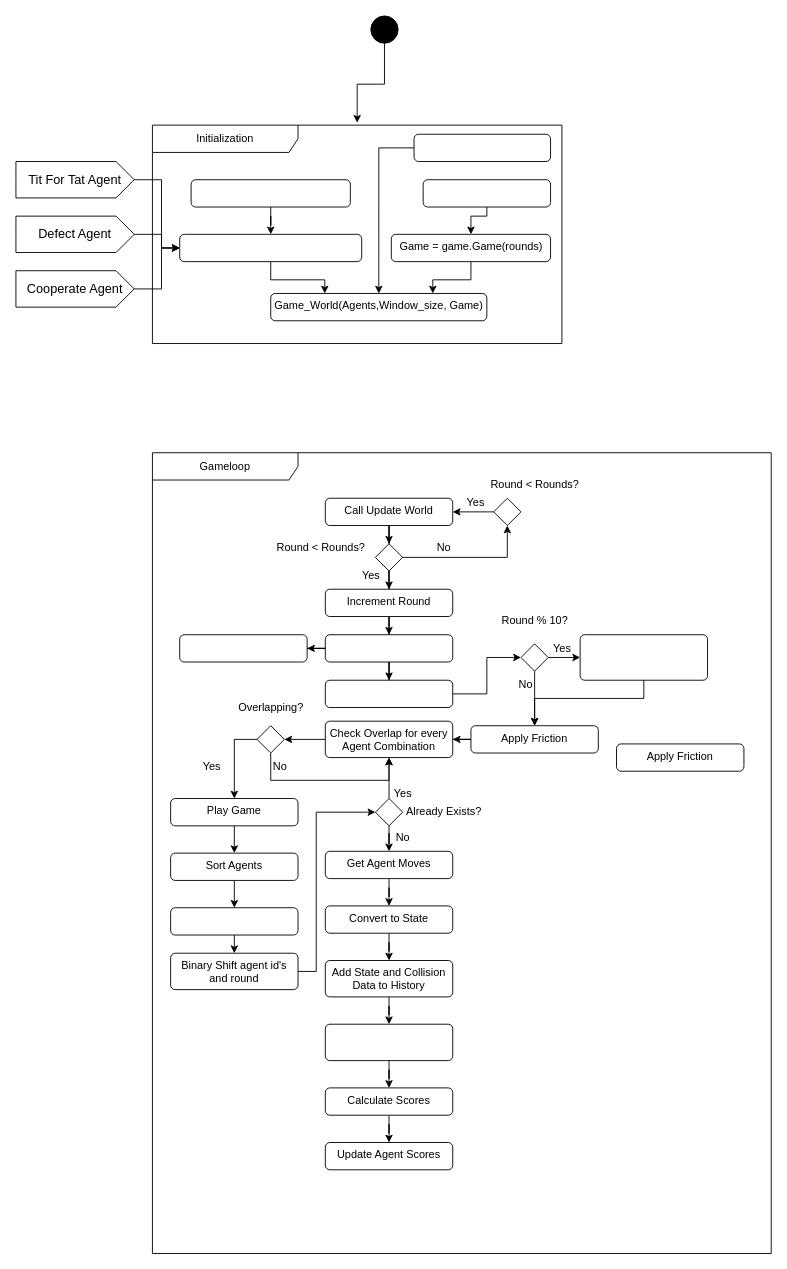
This 787x1269 diagram has some shape labels left out. Here are the shapes that lost their labels. From the top down, the centre of each, then its label:
At (482,147): "Set Window_Size = 600".
At (270,193): "Instantiate Agents[]".
At (486,193): "Set Rounds = 10000".
At (270,247): "Initialize Agents[i] = random agent".
At (243,648): "Fill Black".
At (388,648): "Draw Background".
At (643,657): "Apply Agent Maneuver (Only moves randomly)".
At (388,693): "Move Agents".
At (234,921): "Create Hash".
At (388,1042): "Add State, Collision, and Round to Recent History".
